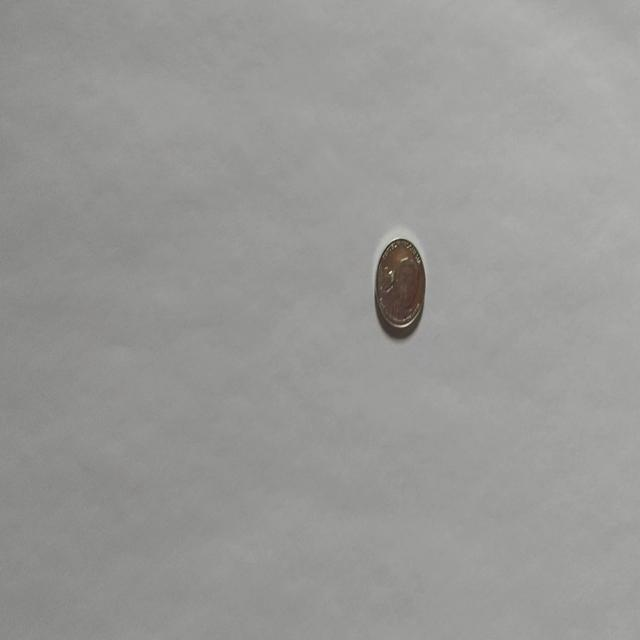seratus rupiah: (374, 235, 426, 333)
